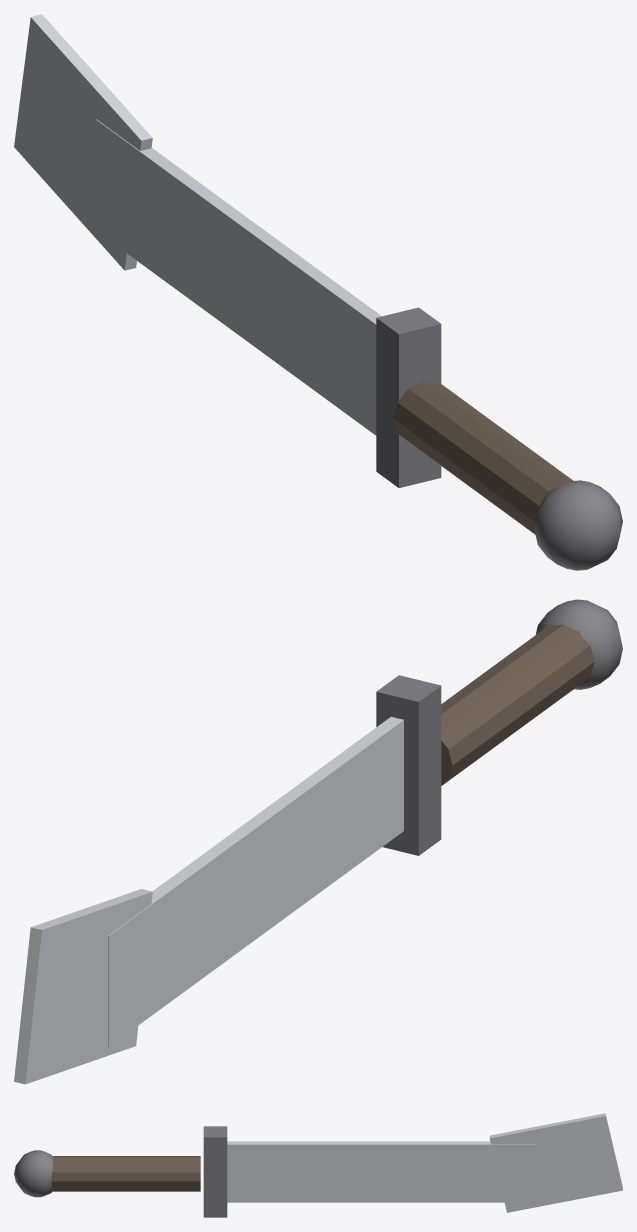
The model's file is Weapon_Machete.fbx.
The picture shows the model from 3 angles, top to bottom: view 1: azimuth 30°, elevation 25°; view 2: azimuth 150°, elevation 25°; view 3: azimuth 270°, elevation 25°; orthographic projection. The views are drawn at different scales.
Parts seen in each view (by area): view 1: Weapon_Machete; view 2: Weapon_Machete; view 3: Weapon_Machete.
Boxes of the visible parts, x1,y1,x2,y2 form: Weapon_Machete: (14, 14, 622, 570); Weapon_Machete: (14, 599, 622, 1084); Weapon_Machete: (14, 1113, 622, 1217).
Bounding box in the file's own units: 0.0457 × 0.109 × 0.6165.
